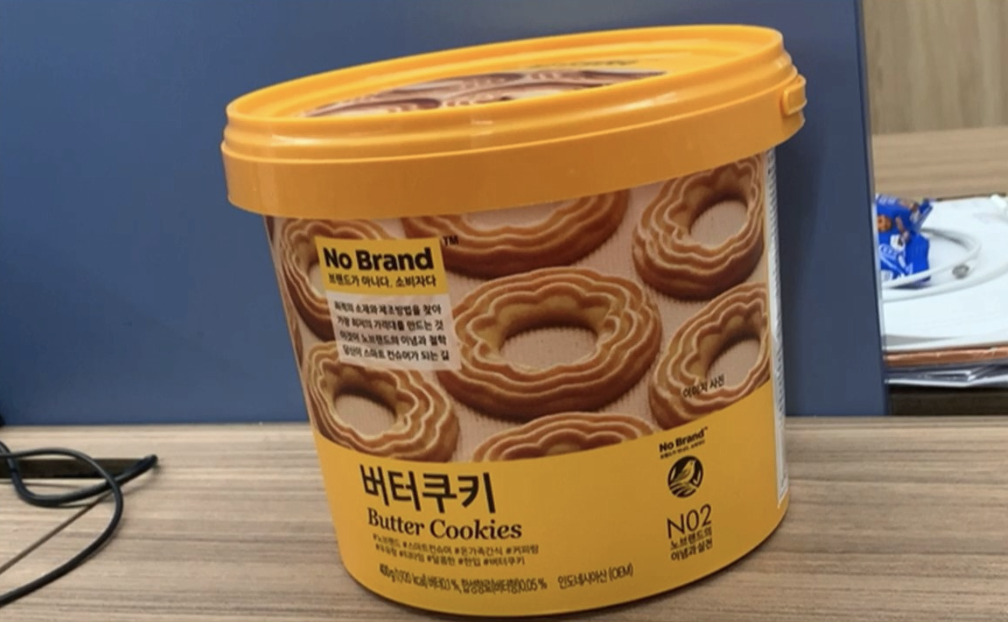cookies_450g: (330, 214, 720, 575)
